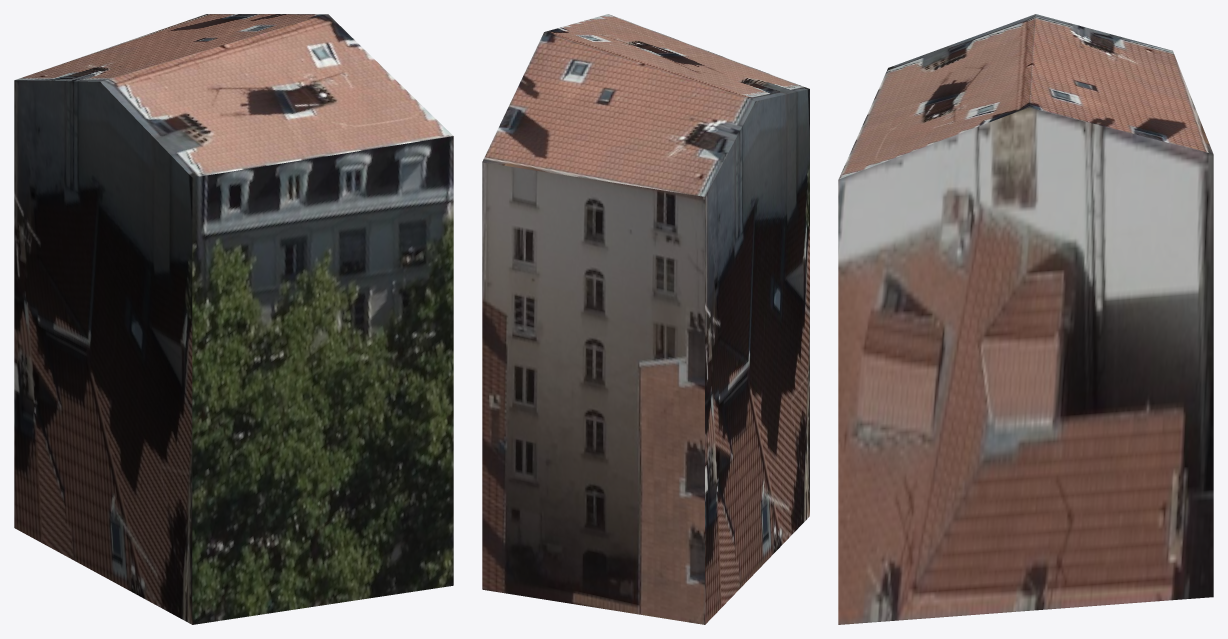
3 renders of one model, left to right at view 1: azimuth 30°, elevation 25°; view 2: azimuth 150°, elevation 25°; view 3: azimuth 270°, elevation 25°, orthographic. The views are drawn at different scales.
Parts seen in each view (by area): view 1: Z_UP; view 2: Z_UP; view 3: Z_UP.
Boxes of the visible parts, x1=… form: Z_UP: x1=14, y1=14, x2=453, y2=624; Z_UP: x1=482, y1=14, x2=809, y2=624; Z_UP: x1=838, y1=14, x2=1213, y2=624.
Size of the model in its own units: 14.26 by 25.62 by 17.3.
Materials: 2 (1 with a texture image).
